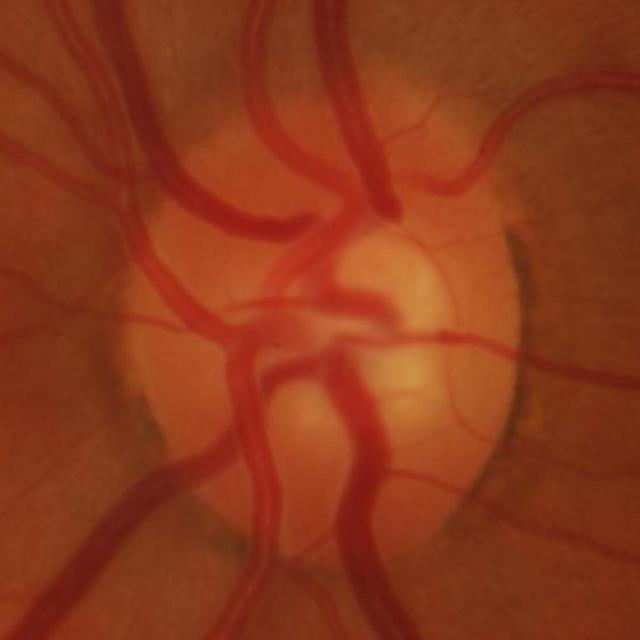OC: (288, 231, 442, 427)
OD: (120, 104, 527, 565)
